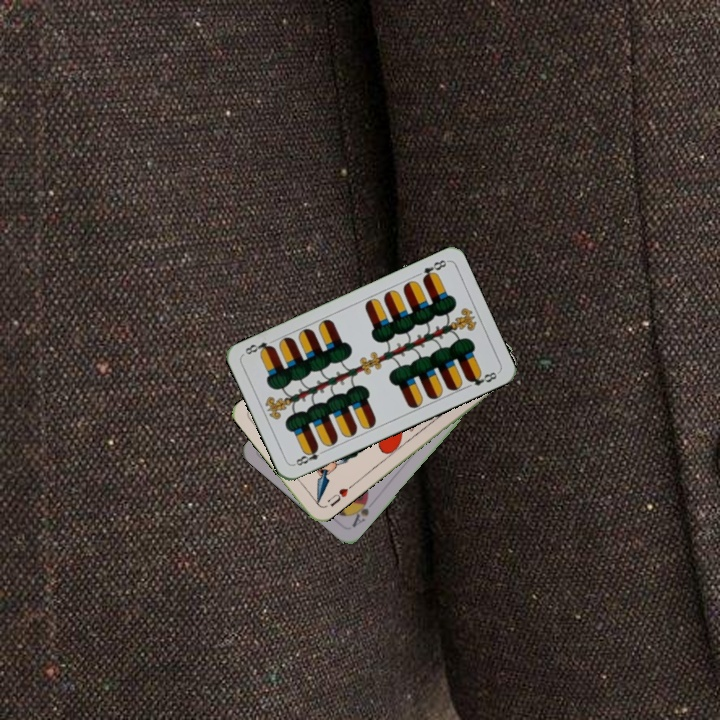E8: (290, 443, 329, 468), (418, 256, 450, 284)
HU: (323, 481, 355, 509)
SA: (347, 493, 372, 530)
